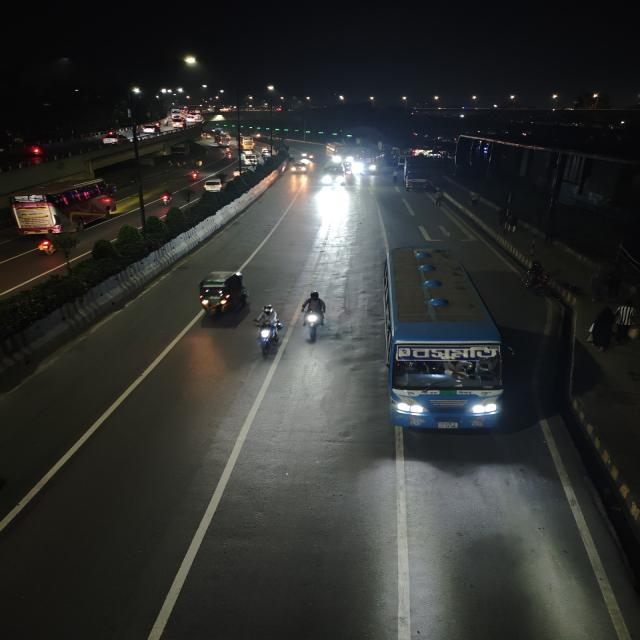bus: (372, 241, 509, 432), (24, 185, 116, 237), (359, 151, 385, 172), (322, 164, 346, 185), (329, 143, 354, 162), (237, 135, 257, 151), (218, 136, 233, 148)
car: (202, 180, 224, 193), (105, 134, 129, 145), (290, 162, 308, 176), (144, 124, 160, 134), (171, 118, 186, 128), (186, 115, 198, 124)
cng: (193, 267, 251, 326)
motorcycle: (251, 304, 286, 364), (299, 286, 333, 342), (157, 190, 173, 207), (190, 170, 200, 181), (226, 152, 236, 161), (225, 148, 232, 154)
pedestrian: (433, 189, 444, 206), (393, 169, 400, 184)
truck: (403, 157, 433, 190)
